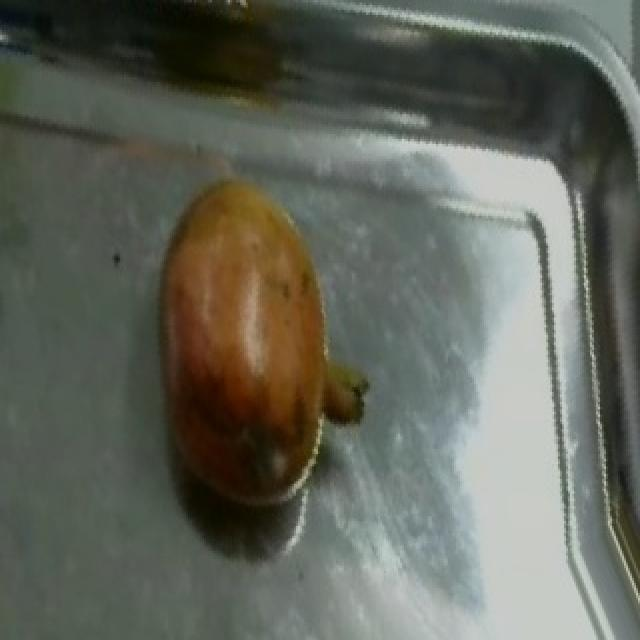fruit: (136, 260, 380, 536)
